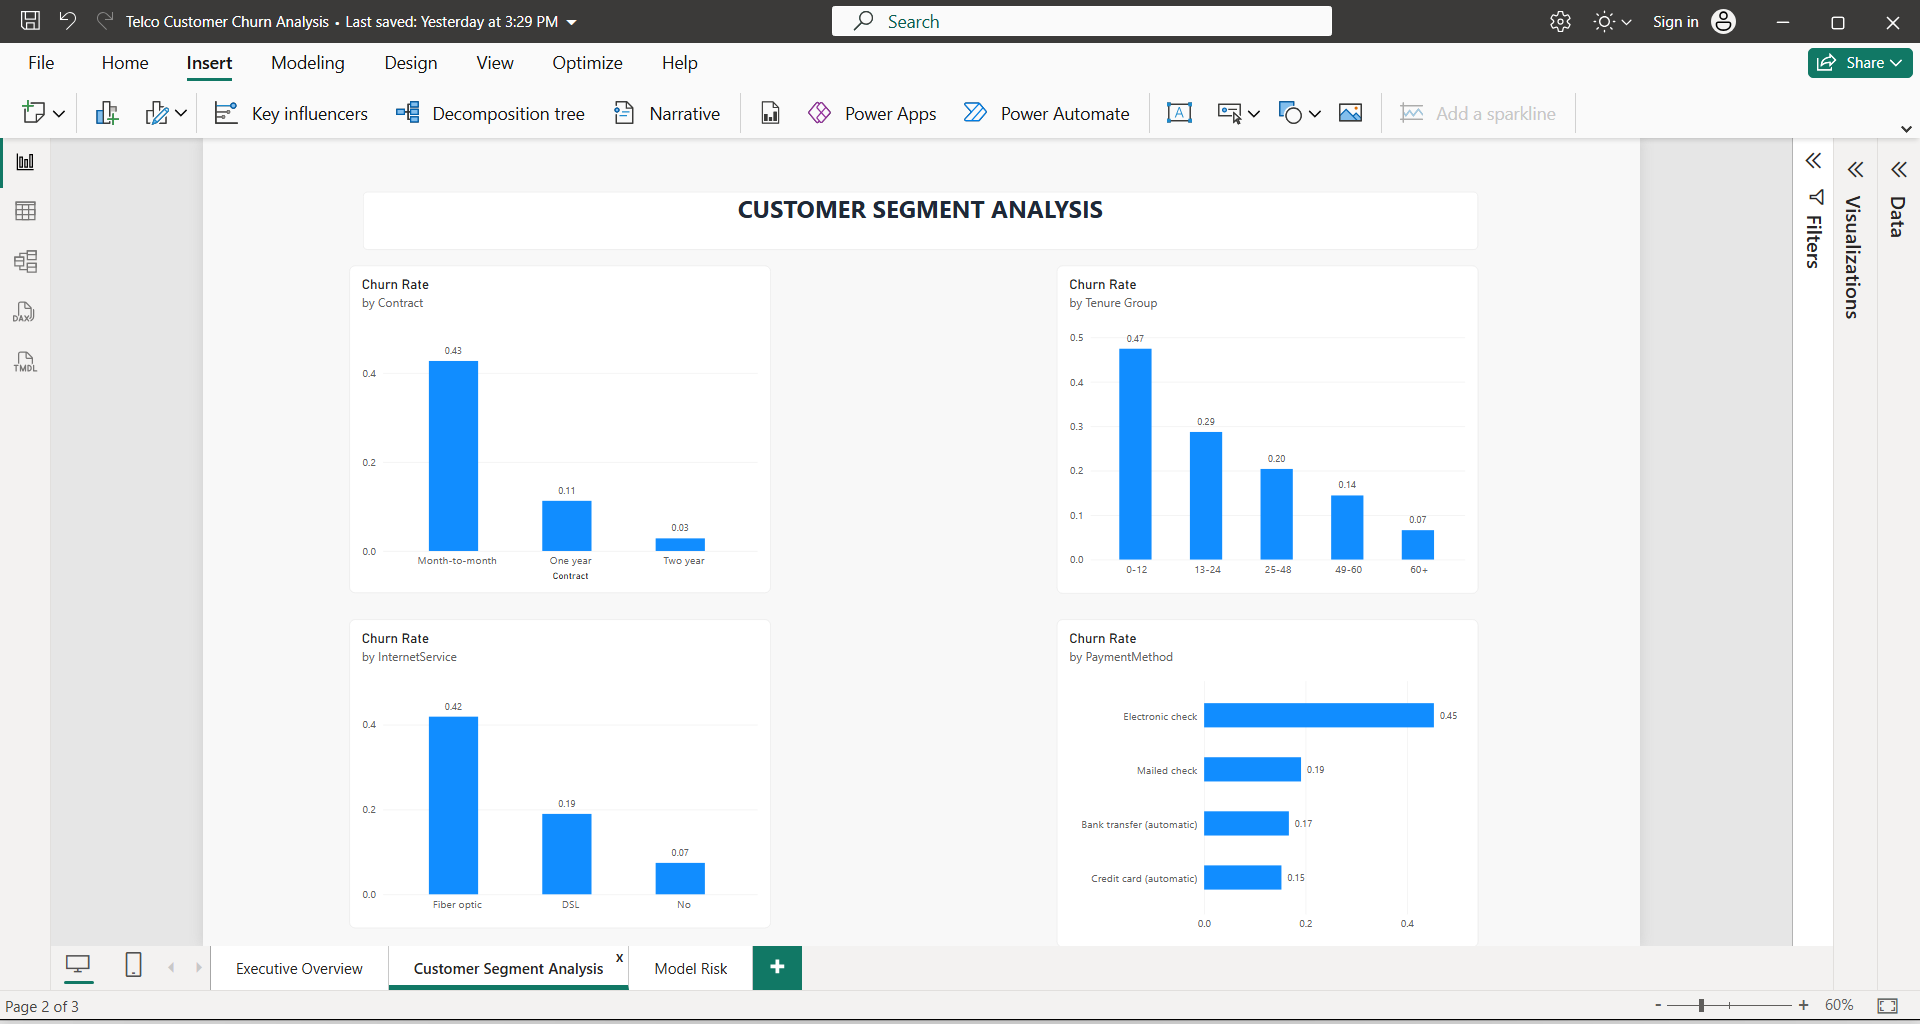

This screenshot's page, from the dashboard's own definition file:
{"tool":"powerbi","page":{"name":"Customer Segment Analysis","canvas":[1920,1080],"ordinal":1},"visuals":[{"type":"clusteredColumnChart","fields":{"Category":["WA_Fn-UseC_-Telco-Customer-Churn.Contract"],"Y":["WA_Fn-UseC_-Telco-Customer-Churn.Churn Rate"]},"box":[195.4,170.1,562.8,437.9],"z":0},{"type":"clusteredColumnChart","fields":{"Category":["WA_Fn-UseC_-Telco-Customer-Churn.Tenure Group"],"Y":["WA_Fn-UseC_-Telco-Customer-Churn.Churn Rate"]},"box":[1140.1,170.1,563,438],"z":1000},{"type":"clusteredColumnChart","fields":{"Category":["WA_Fn-UseC_-Telco-Customer-Churn.InternetService"],"Y":["WA_Fn-UseC_-Telco-Customer-Churn.Churn Rate"]},"box":[195.4,642.4,562.8,412.6],"z":2000},{"type":"clusteredBarChart","fields":{"Category":["WA_Fn-UseC_-Telco-Customer-Churn.PaymentMethod"],"Y":["WA_Fn-UseC_-Telco-Customer-Churn.Churn Rate"]},"box":[1140.1,642.4,563,438],"z":3000},{"type":"textbox","box":[213.5,72.4,1489.4,77.8],"z":4000}]}

Visuals, with their boxes on the page's 1920x1080 design canvas (x1, y1, x2, y2). These are canvas units, not pixel positions in the 1920x1024 screenshot, which may show the page scaled, cropped or inside an application window:
clusteredColumnChart - WA_Fn-UseC_-Telco-Customer-Churn.Contract x WA_Fn-UseC_-Telco-Customer-Churn.Churn Rate: (195, 170, 758, 608)
clusteredColumnChart - WA_Fn-UseC_-Telco-Customer-Churn.Tenure Group x WA_Fn-UseC_-Telco-Customer-Churn.Churn Rate: (1140, 170, 1703, 608)
clusteredColumnChart - WA_Fn-UseC_-Telco-Customer-Churn.InternetService x WA_Fn-UseC_-Telco-Customer-Churn.Churn Rate: (195, 642, 758, 1055)
clusteredBarChart - WA_Fn-UseC_-Telco-Customer-Churn.PaymentMethod x WA_Fn-UseC_-Telco-Customer-Churn.Churn Rate: (1140, 642, 1703, 1080)
textbox: (214, 72, 1703, 150)
